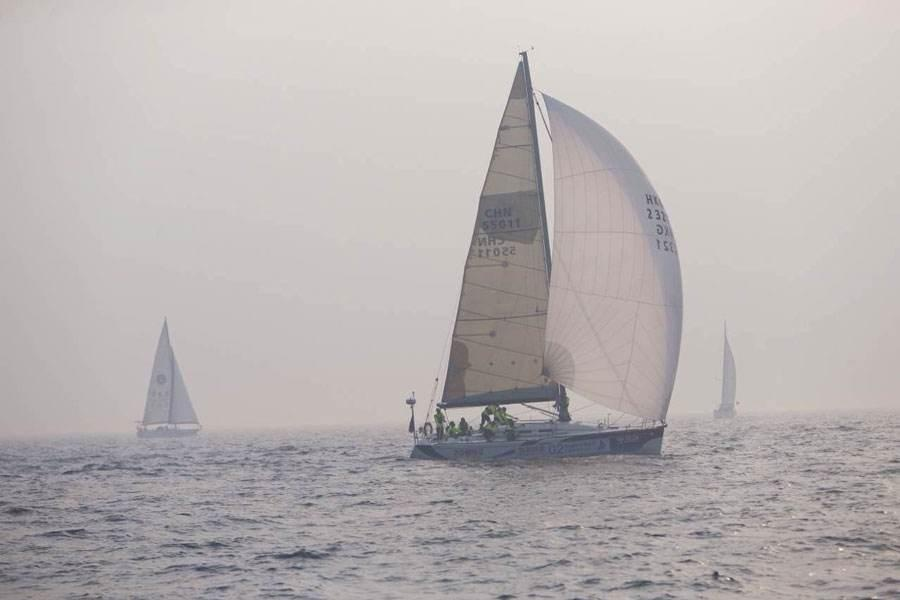fanchuan: (403, 44, 708, 463), (130, 314, 209, 441), (715, 324, 750, 421)
